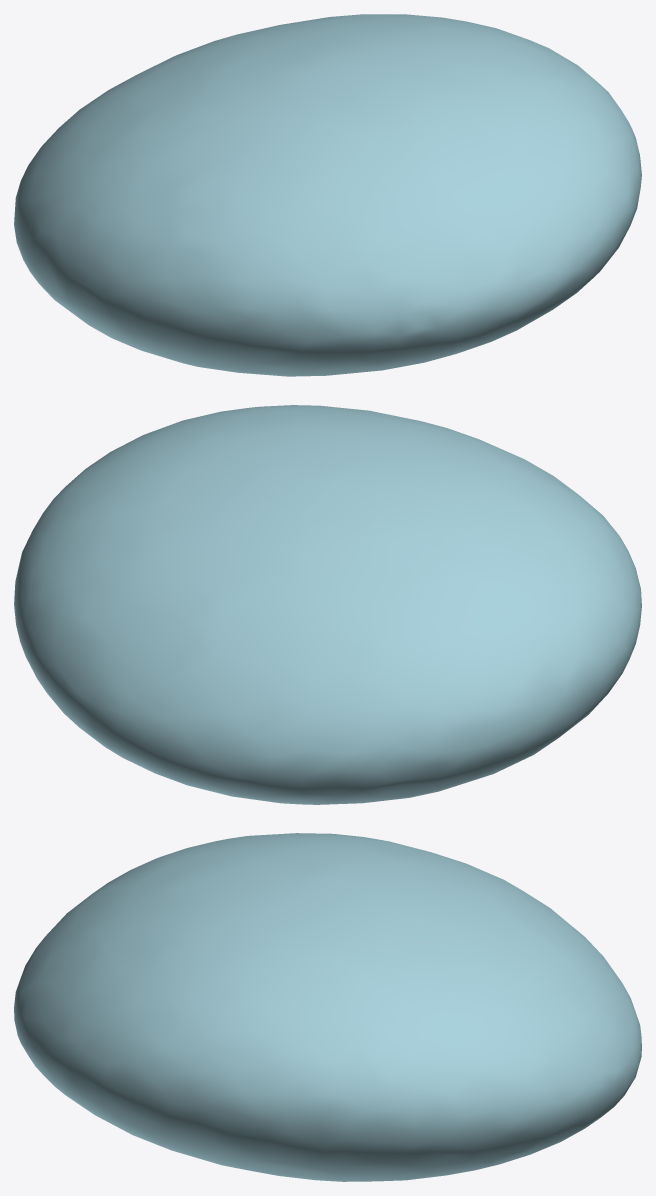
3 renders of one model, top to bottom at view 1: azimuth 30°, elevation 25°; view 2: azimuth 150°, elevation 25°; view 3: azimuth 270°, elevation 25°, orthographic.
Parts seen in each view (by area): view 1: 左侧晶状体; view 2: 左侧晶状体; view 3: 左侧晶状体.
Part boxes in pixels (x1=…): 左侧晶状体: x1=14, y1=14, x2=641, y2=376; 左侧晶状体: x1=14, y1=405, x2=641, y2=804; 左侧晶状体: x1=14, y1=833, x2=641, y2=1181.
Bounding box in the file's own units: 0.0152 × 0.00709 × 0.0153.
